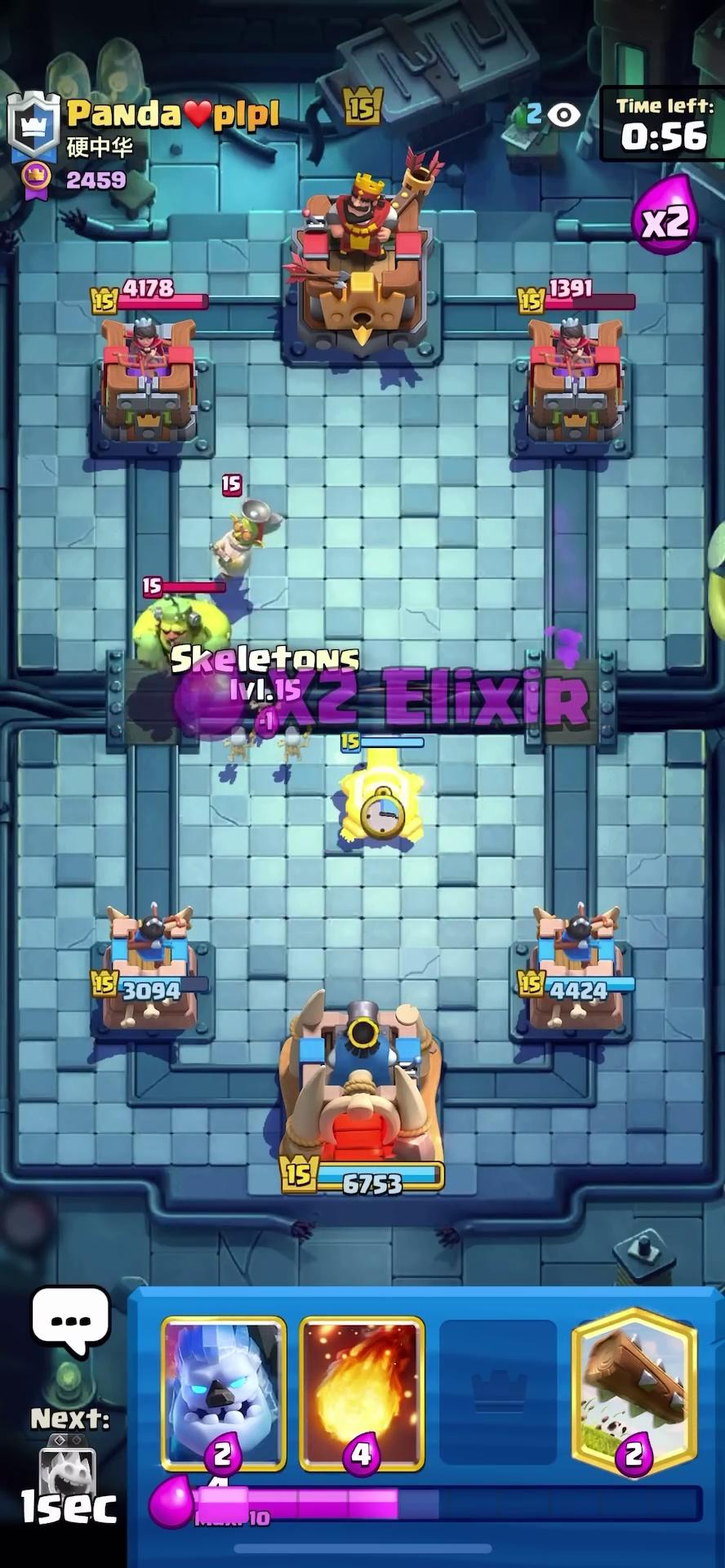cannon: (325, 735, 429, 855)
